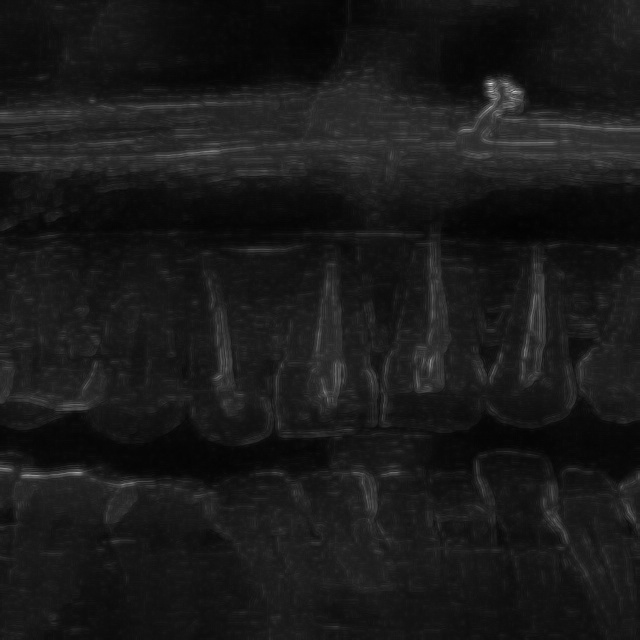Class 1- complete endodontic treatment: (266, 226, 392, 445), (162, 233, 281, 462), (373, 216, 492, 445), (476, 228, 591, 440)
